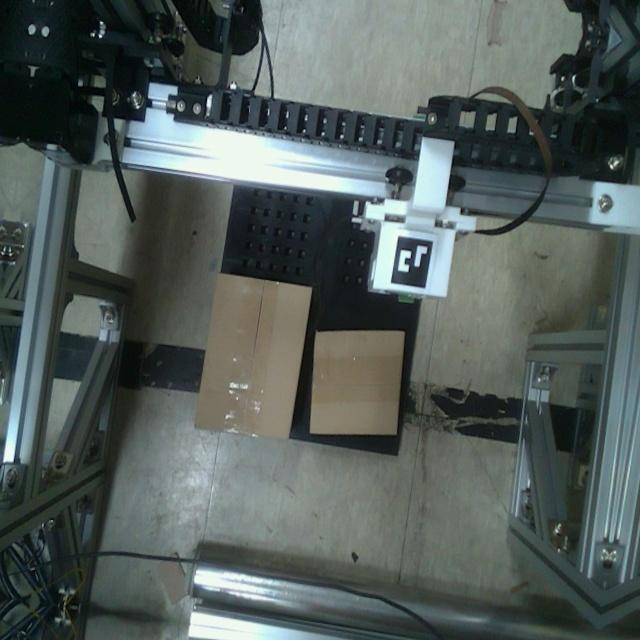box: (190, 268, 318, 448), (309, 328, 406, 440)
